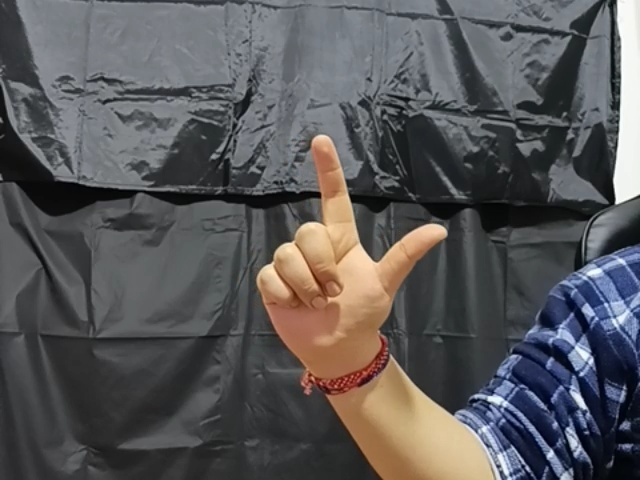L: (249, 133, 448, 361)
